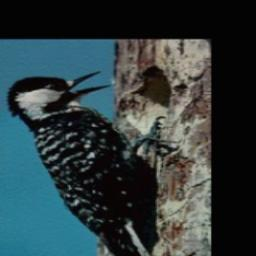Woodpecker: (0, 67, 181, 256)
